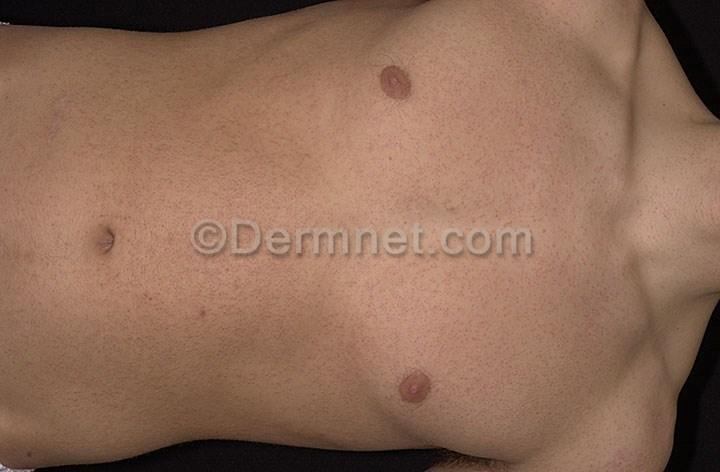edema 1: (1, 1, 672, 471)
